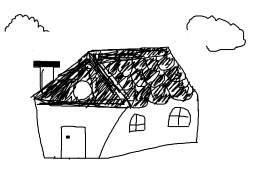chimney: (25, 55, 66, 91)
closed_window: (163, 101, 196, 131), (123, 110, 150, 140)
clouds: (176, 5, 259, 53), (4, 11, 56, 39)
door: (54, 122, 91, 164)
shaded_roof: (27, 43, 205, 112)
wall: (23, 103, 130, 166)
